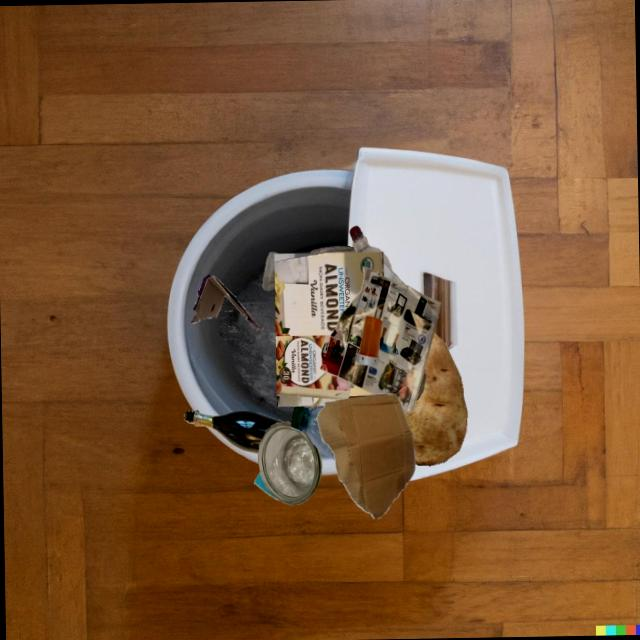biowaste: (403, 332, 467, 465)
cardboard: (274, 251, 384, 407), (316, 393, 415, 518), (191, 273, 263, 331)
glass: (257, 421, 322, 505), (184, 410, 284, 453), (262, 251, 278, 290), (415, 369, 425, 401)
metal: (308, 245, 356, 253)
paper: (320, 266, 441, 412), (254, 472, 279, 500), (383, 262, 405, 284)
plastic: (291, 406, 334, 460), (356, 316, 382, 366), (349, 225, 382, 252)
